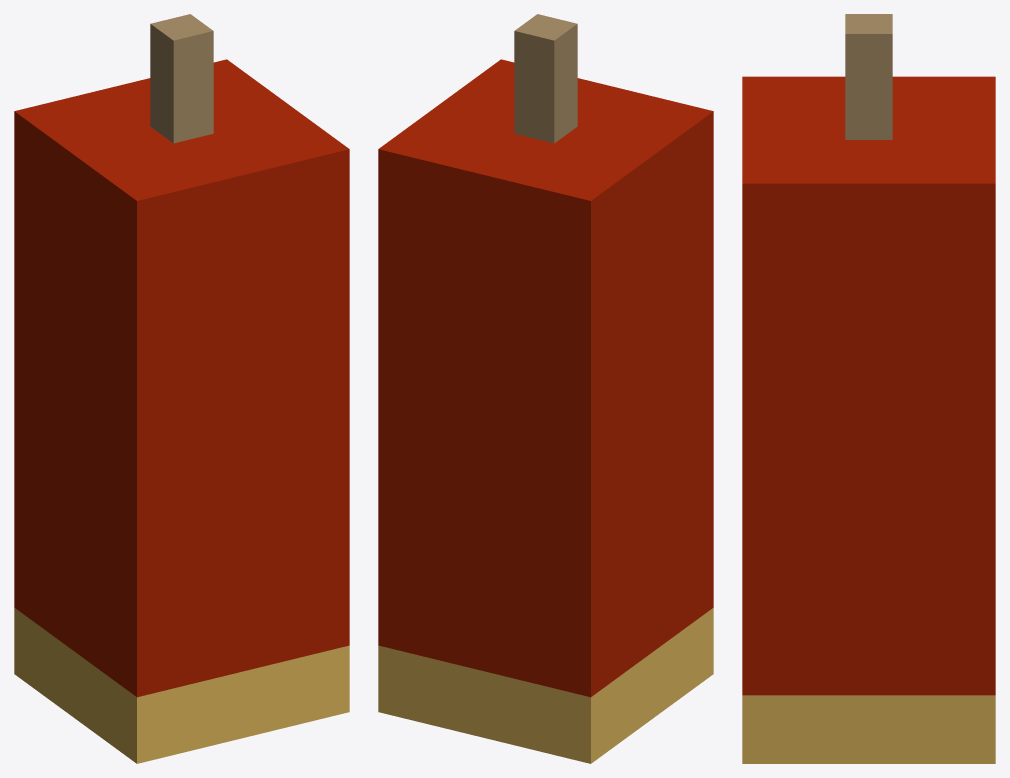
File: bomb_inHand.fbx
3 renders of one model, left to right at view 1: azimuth 30°, elevation 25°; view 2: azimuth 150°, elevation 25°; view 3: azimuth 270°, elevation 25°, orthographic. The views are drawn at different scales.
Parts seen in each view (by area): view 1: bomb_inHand; view 2: bomb_inHand; view 3: bomb_inHand.
Part boxes in pixels (left/top/right/bottom): bomb_inHand: left=14, top=14, right=349, bottom=763; bomb_inHand: left=378, top=14, right=713, bottom=763; bomb_inHand: left=742, top=14, right=995, bottom=763.
Size of the model in its own units: 0.5519 by 1.65 by 0.5519.
